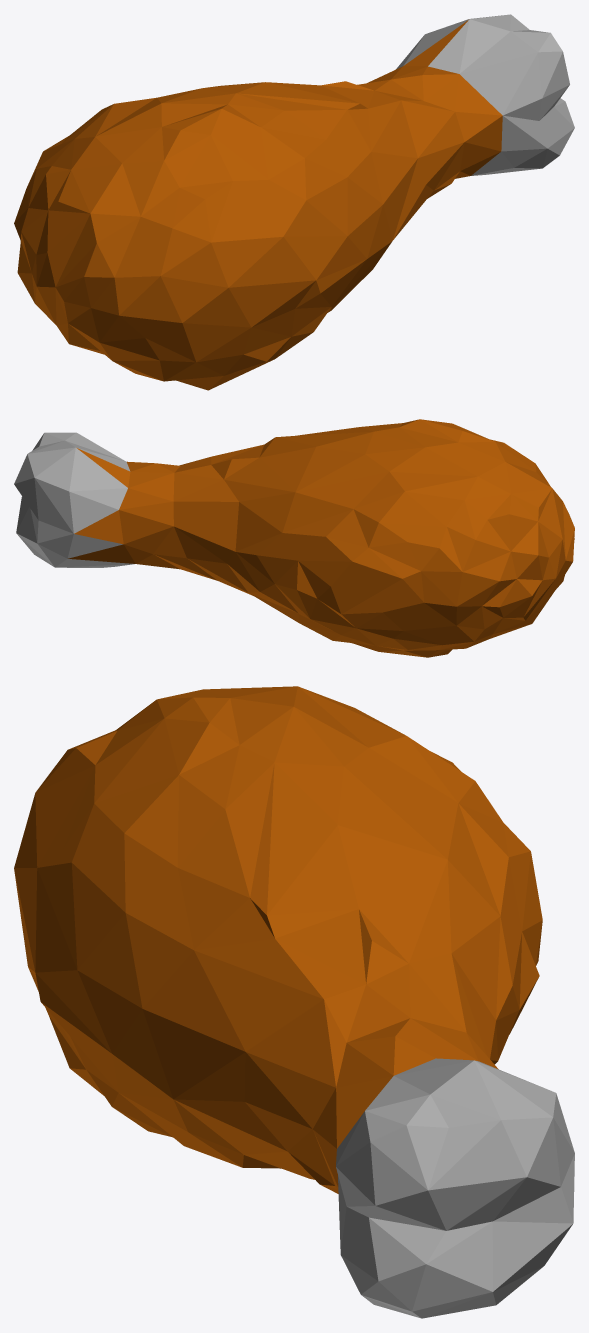
The model's file is Pollofrito.fbx.
3 renders of one model, top to bottom at view 1: azimuth 30°, elevation 25°; view 2: azimuth 150°, elevation 25°; view 3: azimuth 270°, elevation 25°, orthographic. The views are drawn at different scales.
Parts seen in each view (by area): view 1: Pollofrito; view 2: Pollofrito; view 3: Pollofrito.
Part boxes in pixels (x1,y1,x2,y2): Pollofrito: (14,14,574,390); Pollofrito: (14,419,574,657); Pollofrito: (14,686,574,1318).
Size of the model in its own units: 48536 by 20593 by 25603.
